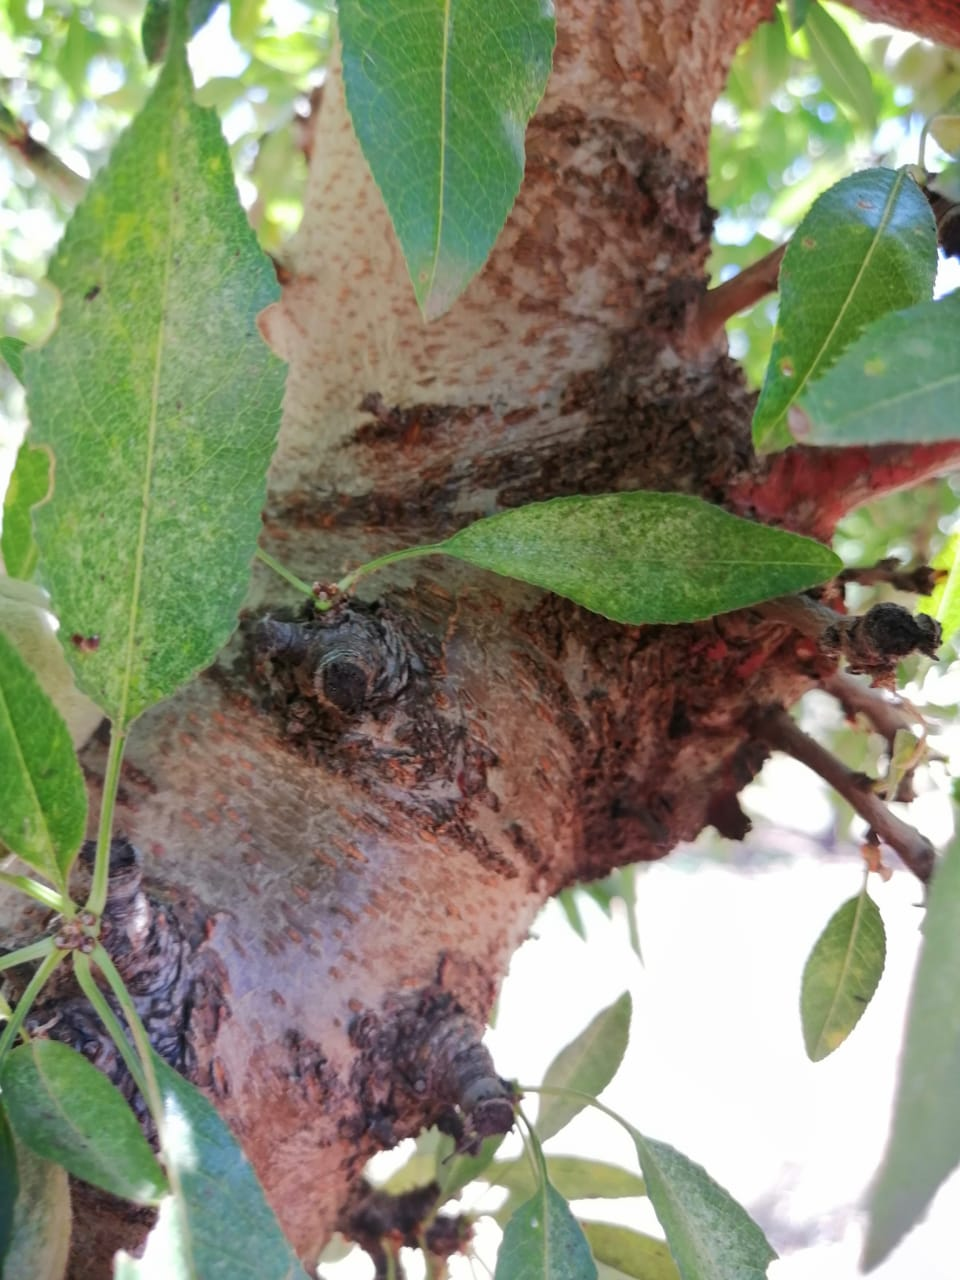acariens: (11, 50, 294, 729), (433, 487, 846, 631)
